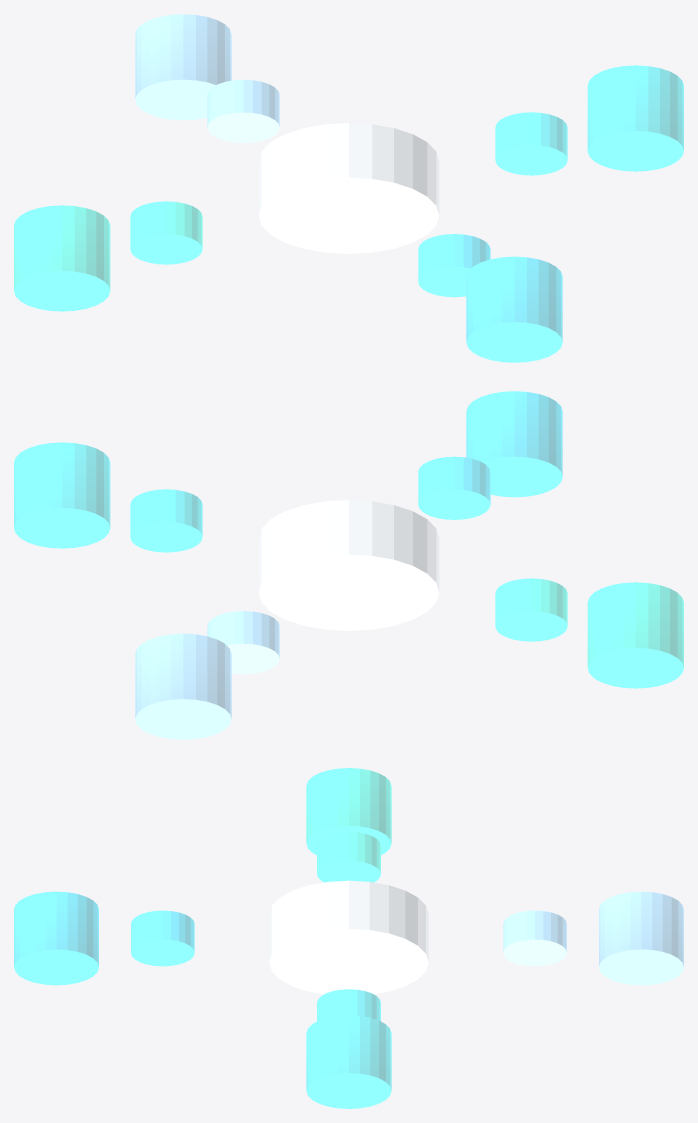
Rendered from centrifuge_v3.glb.
The picture shows the model from 3 angles, top to bottom: view 1: azimuth 30°, elevation 25°; view 2: azimuth 150°, elevation 25°; view 3: azimuth 270°, elevation 25°; orthographic projection. The views are drawn at different scales.
Parts seen in each view (by area): view 1: CentrifugeRotor; view 2: CentrifugeRotor; view 3: CentrifugeRotor.
Part boxes in pixels (x1,y1,x2,y2): CentrifugeRotor: [14, 14, 683, 362]; CentrifugeRotor: [14, 391, 683, 739]; CentrifugeRotor: [14, 768, 683, 1108].
Bounding box in the file's own units: 1.26 × 0.12 × 1.26.
